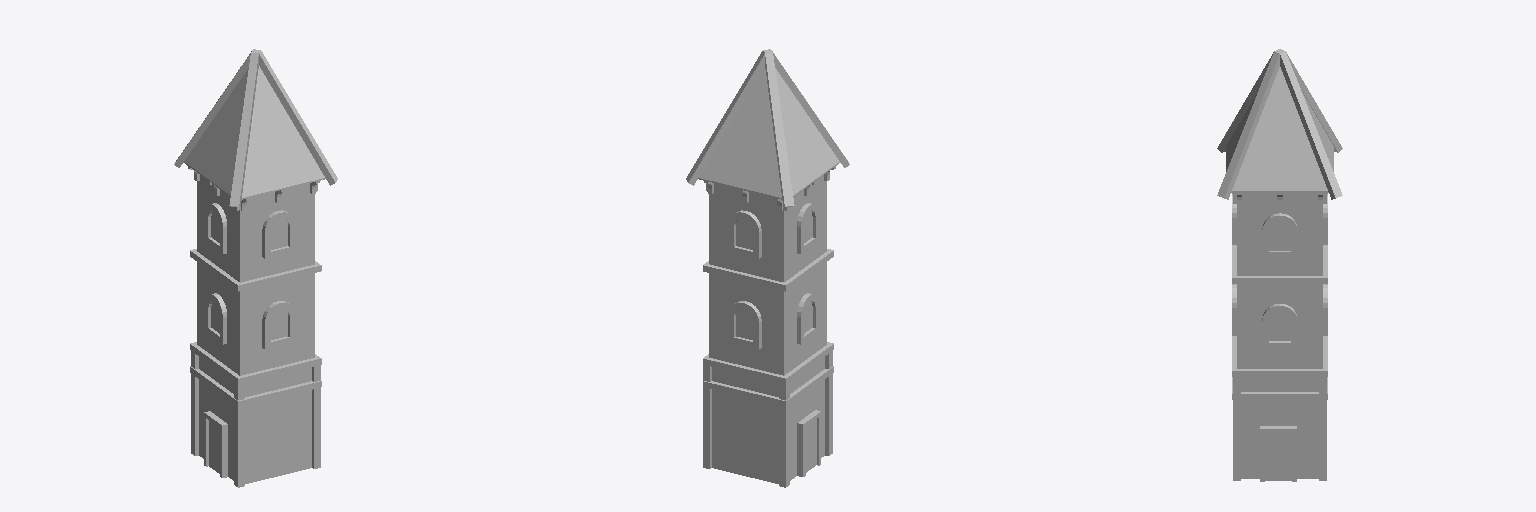
Rendered from Tower1.obj.
3 views of the same model, side by side, from view 1: azimuth 30°, elevation 25°; view 2: azimuth 150°, elevation 25°; view 3: azimuth 270°, elevation 25° (orthographic).
Bounding box in the file's own units: 2.39 × 8.58 × 2.39.